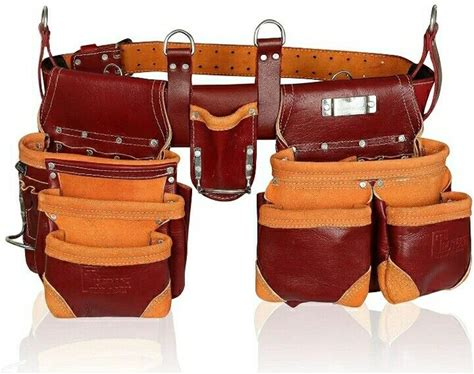cuero: (18, 25, 471, 322)
